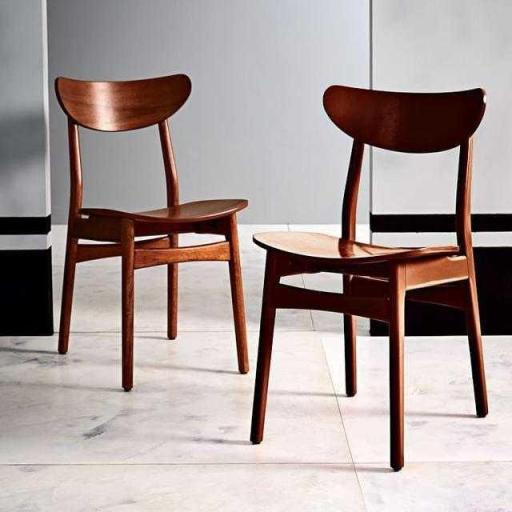chair: (255, 60, 498, 474), (50, 67, 251, 394)
